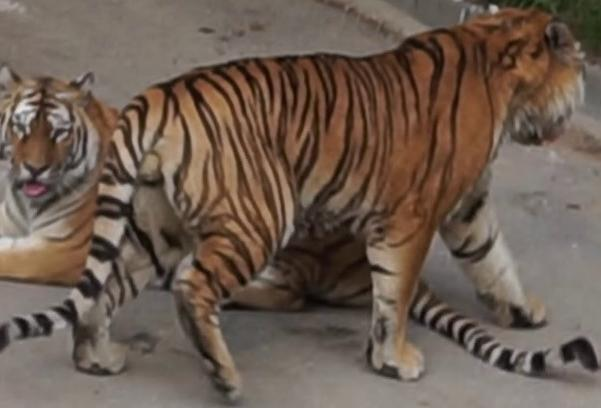tiger: (0, 8, 583, 399)
